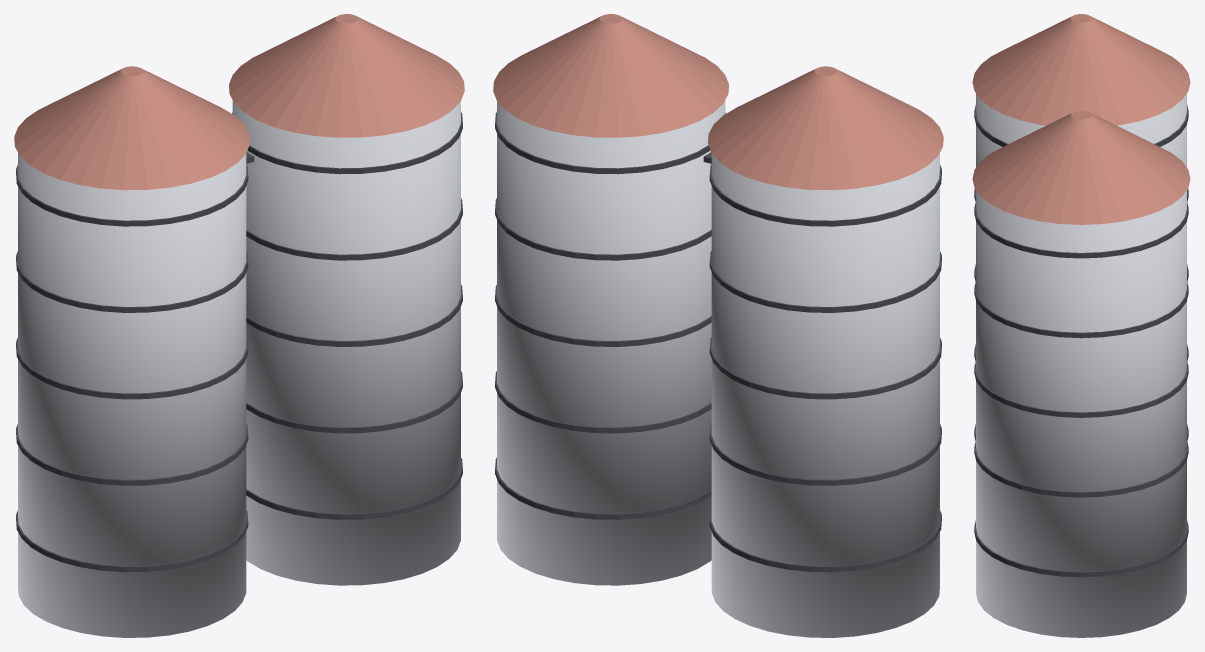
File: B_silo.fbx
3 renders of one model, left to right at view 1: azimuth 30°, elevation 25°; view 2: azimuth 150°, elevation 25°; view 3: azimuth 270°, elevation 25°, orthographic. The views are drawn at different scales.
Visible parts, largest first — view 1: Metal.009, Roof.005, Dark.015; view 2: Metal.009, Roof.005, Dark.015; view 3: Metal.009, Roof.005, Dark.015.
Boxes of the visible parts, x1=… form: Metal.009: x1=18, y1=100, x2=460, y2=637; Roof.005: x1=14, y1=14, x2=464, y2=190; Dark.015: x1=16, y1=112, x2=462, y2=572; Metal.009: x1=497, y1=100, x2=939, y2=637; Roof.005: x1=493, y1=14, x2=943, y2=190; Dark.015: x1=495, y1=112, x2=941, y2=572; Metal.009: x1=976, y1=94, x2=1186, y2=637; Roof.005: x1=972, y1=14, x2=1190, y2=224; Dark.015: x1=974, y1=105, x2=1188, y2=577.
Bounding box in the file's own units: 25.4 × 30 × 12.4.
